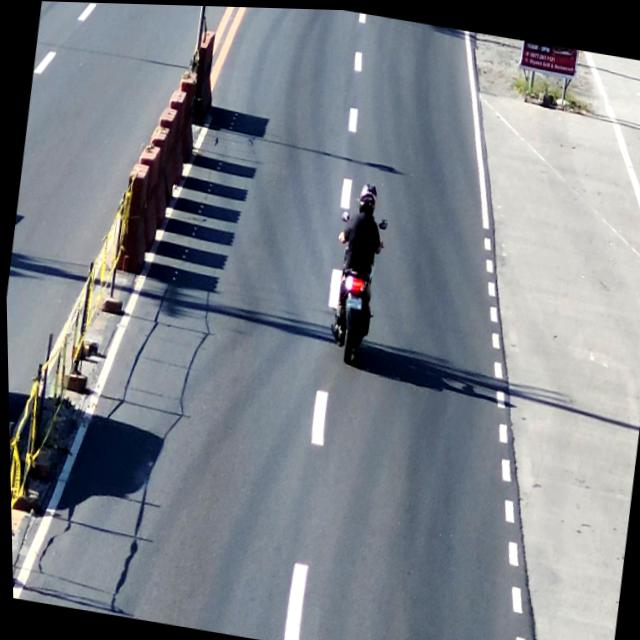License-Plate: (341, 291, 367, 315)
Motorcycle: (320, 175, 395, 368)
